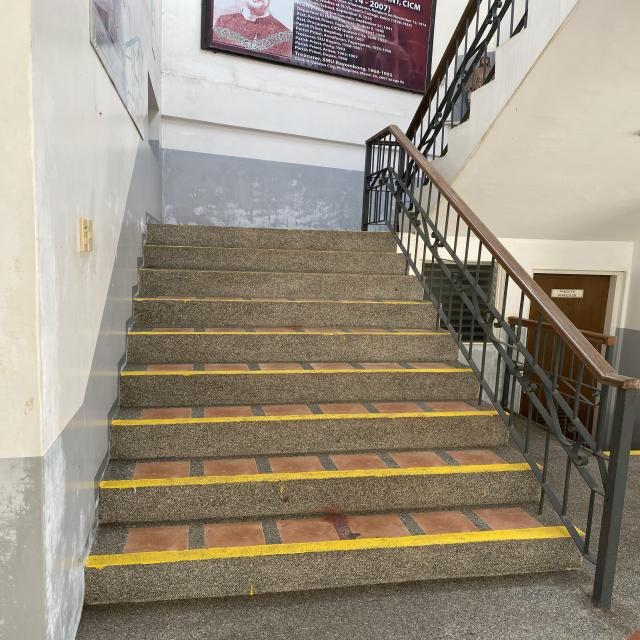stair: (88, 221, 582, 605), (394, 4, 580, 232)
